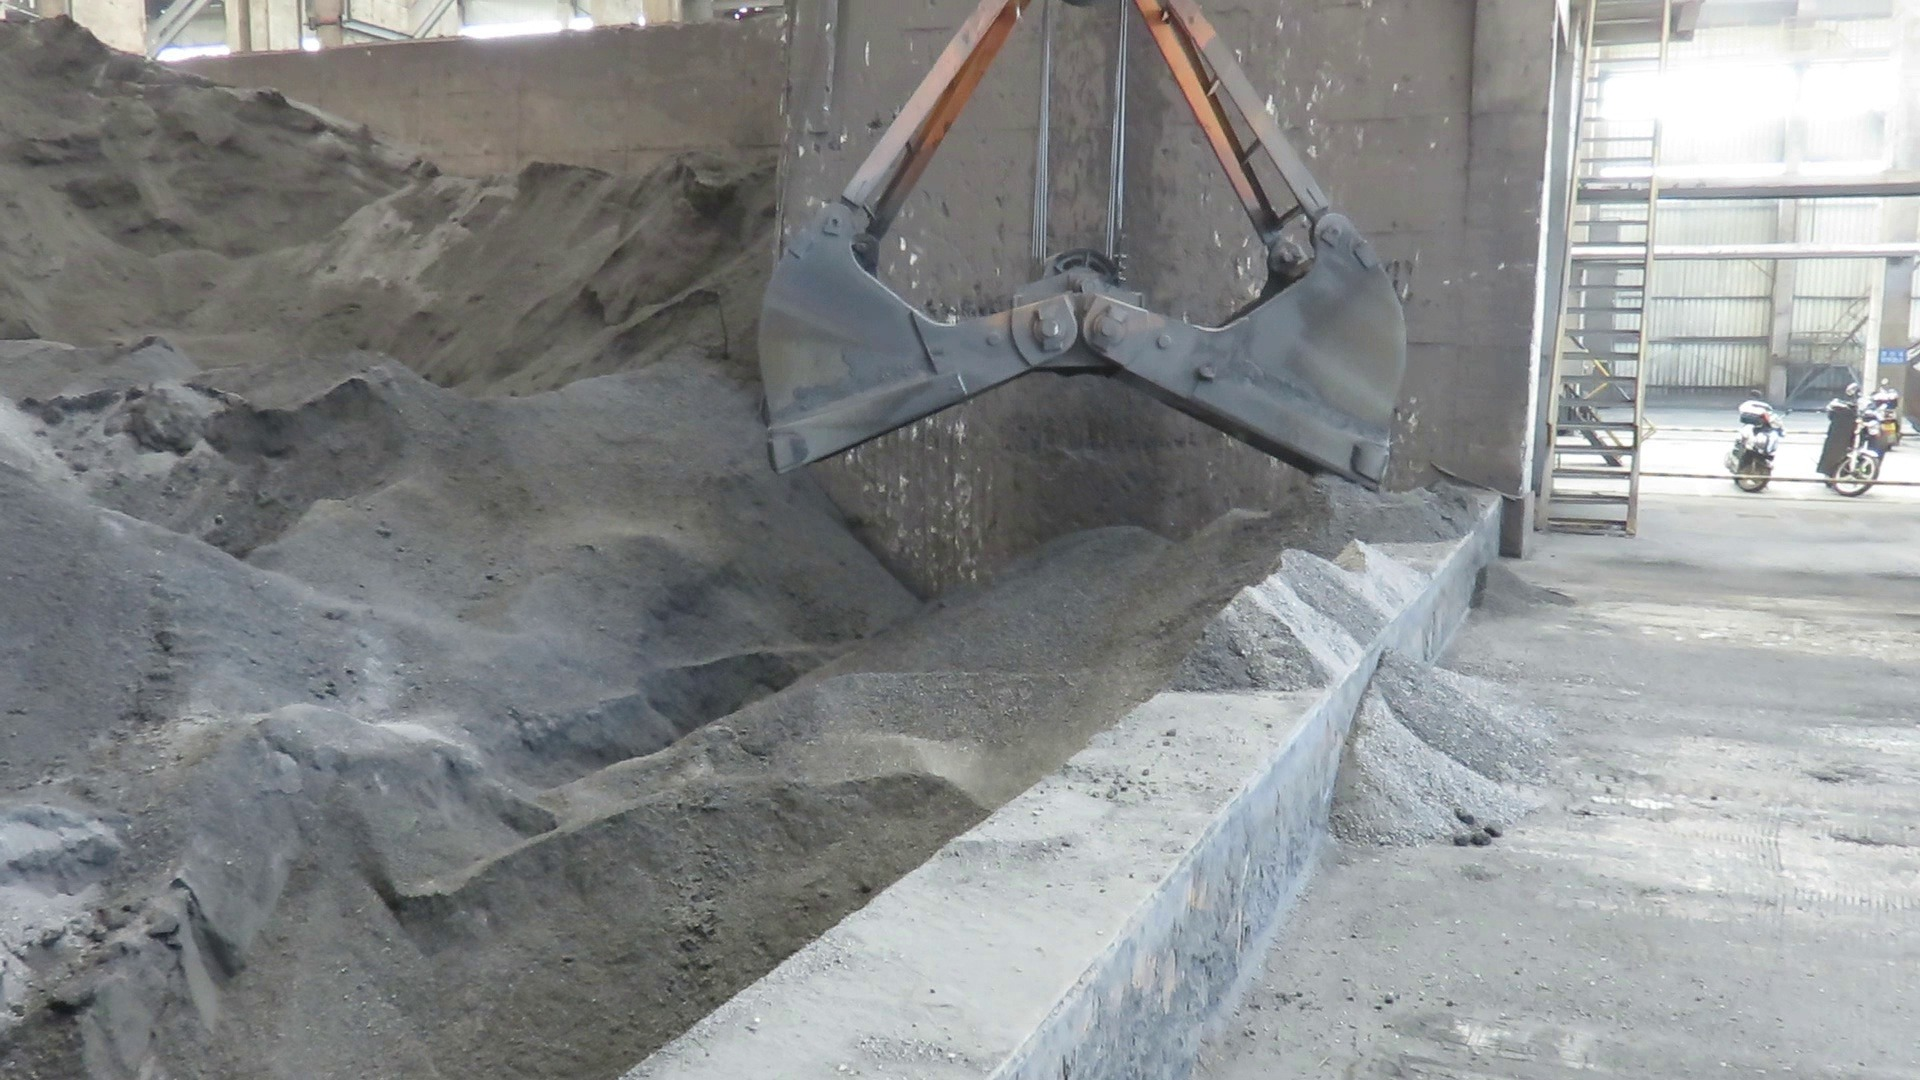grab: (742, 0, 1420, 498)
